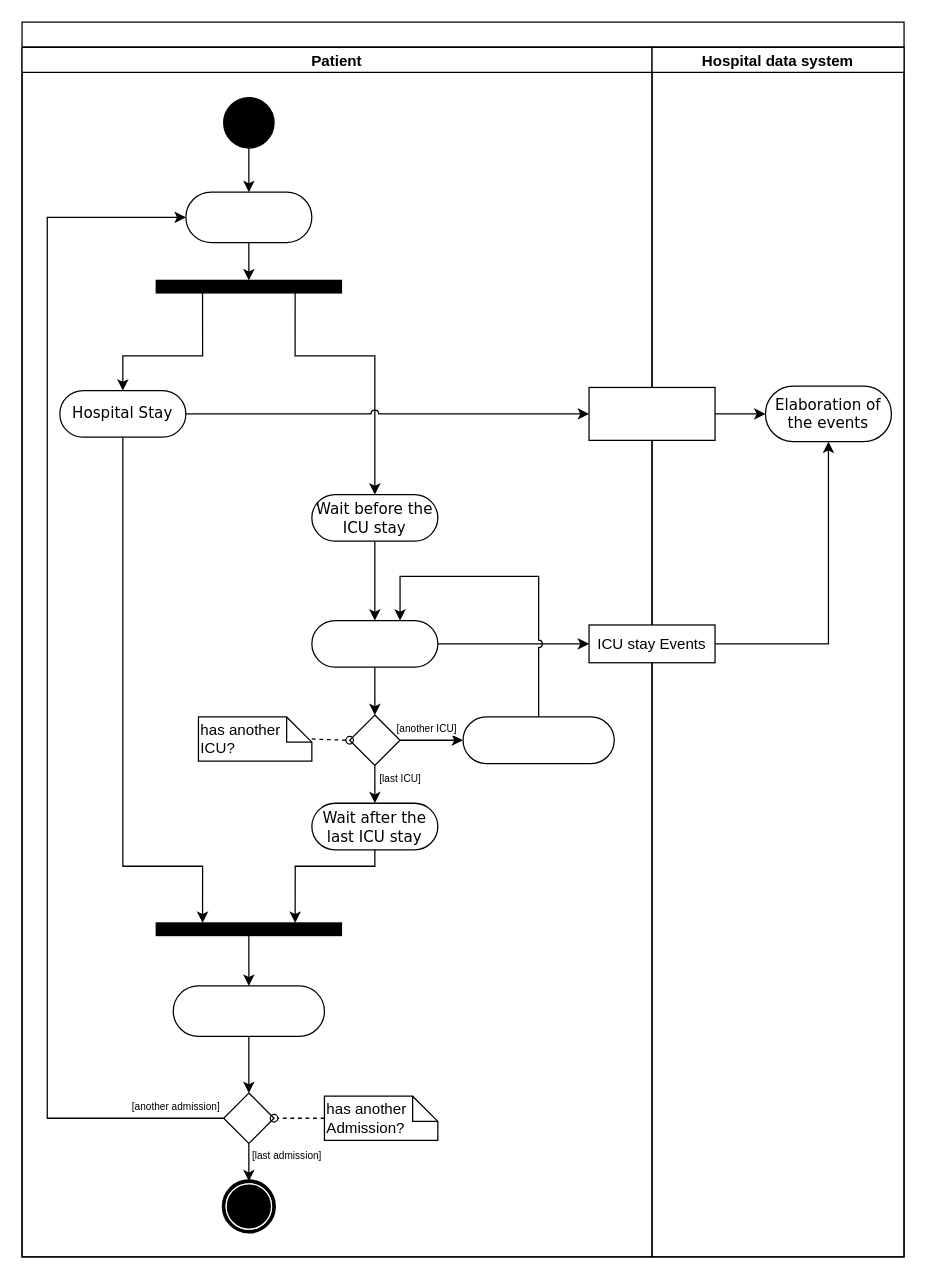
The diagram is 926 pixels wide and 1279 high, and some of its shapes have lost their labels. Here are the shapes that lost their labels. From the top down, the centre of each, then its label:
point (248, 217): Admission to the hospital
point (651, 413): Hospital stay events
point (374, 643): ICU stay
point (538, 740): wait time between ICU stays
point (248, 1010): Dismission from the hospital
